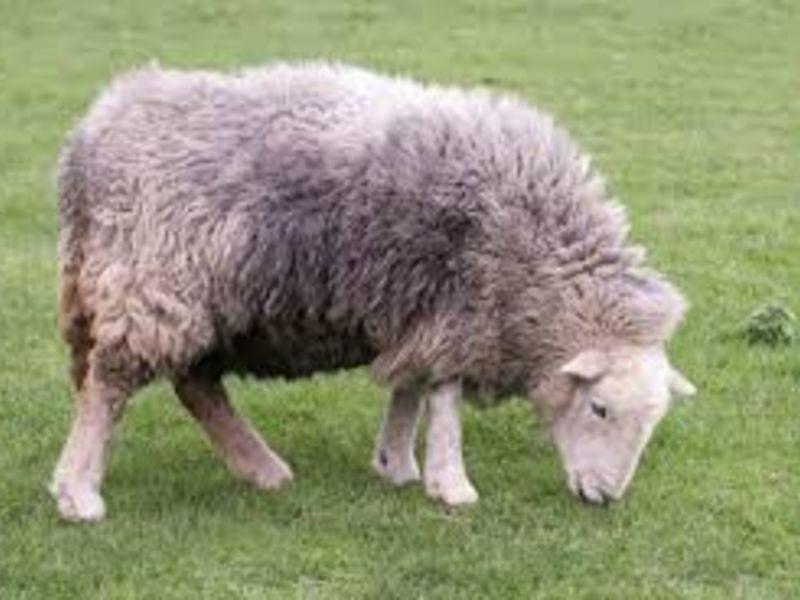sheep: (52, 48, 701, 526)
